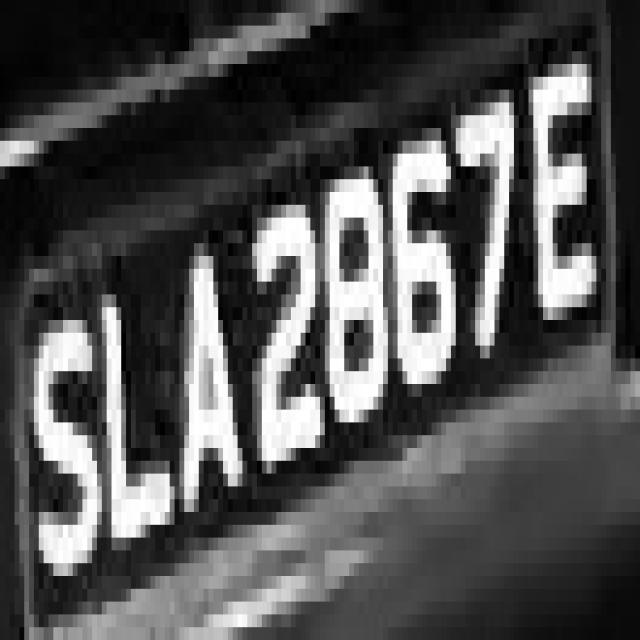2: (233, 166, 320, 512)
6: (373, 90, 461, 422)
7: (442, 103, 534, 410)
8: (315, 128, 393, 474)
A: (170, 192, 247, 512)
E: (524, 26, 611, 346)
L: (88, 230, 184, 602)
S: (29, 269, 102, 614)
